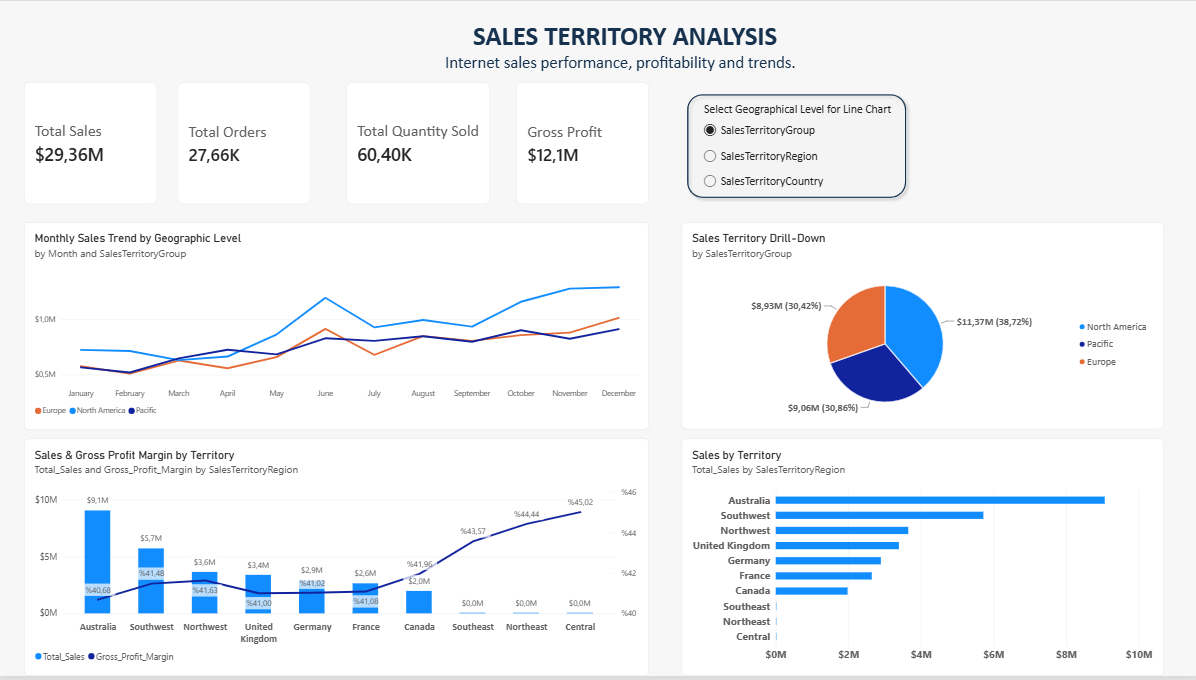

The page's visual inventory and layout, read from the dashboard file:
{"tool":"powerbi","page":{"name":"Sales Territory Overview","canvas":[1920,1080],"ordinal":2},"visuals":[{"type":"textbox","box":[651.5,30.8,684.1,132.1],"z":0},{"type":"cardVisual","fields":{"Data":["FactInternetSales.Total_Sales"]},"box":[40,130,212,195],"z":1000},{"type":"cardVisual","fields":{"Data":["FactInternetSales.Total_Orders"]},"box":[286,130,212,195],"z":2000},{"type":"cardVisual","fields":{"Data":["FactInternetSales.Total Quantity Sold"]},"box":[556,130,229.8,195.4],"z":3000},{"type":"cardVisual","fields":{"Data":["FactInternetSales.Gross_Profit"]},"box":[828,130,212,195],"z":4000},{"type":"barChart","title":"Sales by Territory","fields":{"Category":["DimSalesTerritory.SalesTerritoryGroup","DimSalesTerritory.SalesTerritoryRegion","DimSalesTerritory.SalesTerritoryCountry"],"Y":["FactInternetSales.Total_Sales"]},"box":[1091.2,700.3,770.9,380],"z":5000},{"type":"pieChart","fields":{"Category":["DimSalesTerritory.SalesTerritoryGroup Hierarchy.SalesTerritoryGroup","DimSalesTerritory.SalesTerritoryGroup Hierarchy.SalesTerritoryRegion","DimSalesTerritory.SalesTerritoryGroup Hierarchy.SalesTerritoryCountry"],"Y":["FactInternetSales.Total_Sales"]},"box":[1091.2,354.7,770.9,331.2],"z":6000},{"type":"lineChart","fields":{"Category":["DimDate.FullDateAlternateKey.Variation.Date Hierarchy.Year","DimDate.FullDateAlternateKey.Variation.Date Hierarchy.Month"],"Series":["DimSalesTerritory.SalesTerritoryGroup"],"Y":["FactInternetSales.Total_Sales"]},"box":[40,354,1000,332],"z":7000},{"type":"group","id":"g1","title":"Group 1","box":[1092,140,426,188],"z":8000},{"type":"shape","box":[1092,140,368.5,184],"z":8002,"group":"g1"},{"type":"slicer","fields":{"Values":["Geographic Level.Geographic Level"]},"box":[1120,162,398,166],"z":8502,"group":"g1"},{"type":"lineClusteredColumnComboChart","title":"Sales & Gross Profit Margin by Territory","fields":{"Category":["DimSalesTerritory.SalesTerritoryRegion"],"Y":["FactInternetSales.Total_Sales"],"Y2":["FactInternetSales.Gross_Profit_Margin"]},"box":[40,700,1000,380],"z":9000}]}

Visuals, with their boxes in screenshot pixels (x1, y1, x2, y2), scaled from the page's 1920x1080 canvas onto the 1196x680 screenshot:
textbox: [x1=406, y1=19, x2=832, y2=103]
cardVisual - FactInternetSales.Total_Sales: [x1=25, y1=82, x2=157, y2=205]
cardVisual - FactInternetSales.Total_Orders: [x1=178, y1=82, x2=310, y2=205]
cardVisual - FactInternetSales.Total Quantity Sold: [x1=346, y1=82, x2=489, y2=205]
cardVisual - FactInternetSales.Gross_Profit: [x1=516, y1=82, x2=648, y2=205]
"Sales by Territory" barChart: [x1=680, y1=441, x2=1160, y2=679]
pieChart - DimSalesTerritory.SalesTerritoryGroup Hierarchy.SalesTerritoryGroup x DimSalesTerritory.SalesTerritoryGroup Hierarchy.SalesTerritoryRegion: [x1=680, y1=223, x2=1160, y2=432]
lineChart - DimDate.FullDateAlternateKey.Variation.Date Hierarchy.Year x DimDate.FullDateAlternateKey.Variation.Date Hierarchy.Month: [x1=25, y1=223, x2=648, y2=432]
"Group 1" group: [x1=680, y1=88, x2=946, y2=207]
shape: [x1=680, y1=88, x2=910, y2=204]
slicer - Geographic Level.Geographic Level: [x1=698, y1=102, x2=946, y2=207]
"Sales & Gross Profit Margin by Territory" lineClusteredColumnComboChart: [x1=25, y1=441, x2=648, y2=679]
